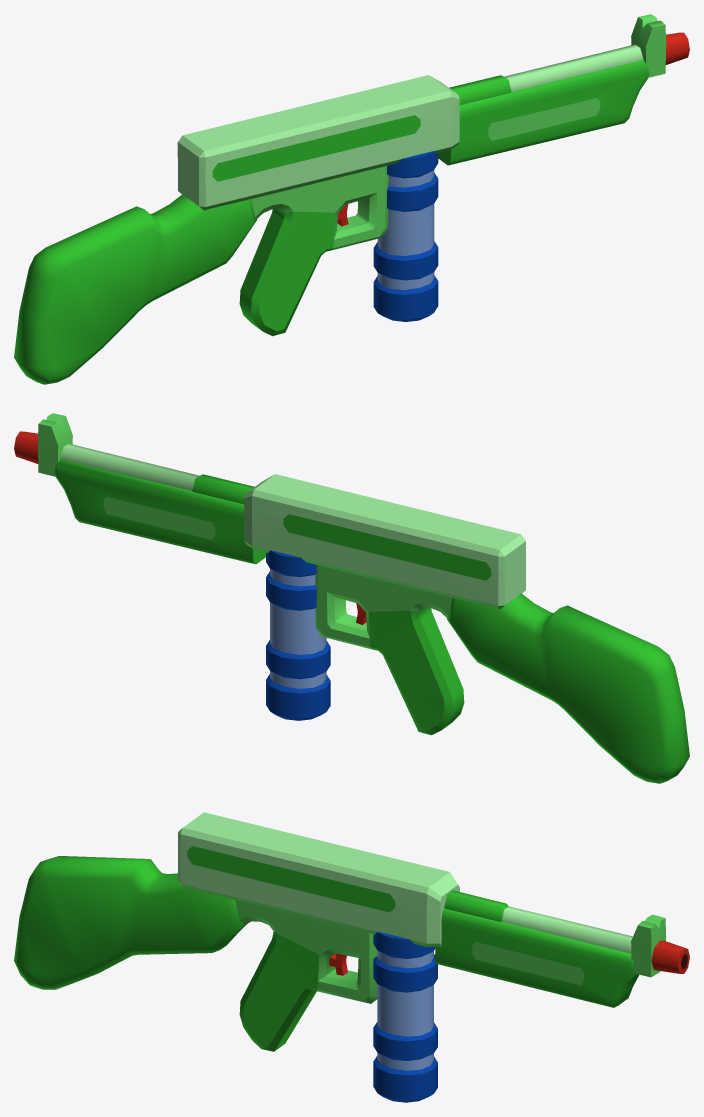
File: Tommy_Gun_Cell_Shaded.fbx
The picture shows the model from 3 angles, top to bottom: view 1: azimuth 30°, elevation 25°; view 2: azimuth 150°, elevation 25°; view 3: azimuth 330°, elevation 25°; orthographic projection.
Visible parts, largest first — view 1: final tommy001; view 2: final tommy001; view 3: final tommy001.
Boxes of the visible parts, x1,y1,x2,y2 form: final tommy001: (14, 14, 689, 384); final tommy001: (14, 413, 689, 783); final tommy001: (14, 812, 689, 1102).
Size of the model in its own units: 1.59 by 0.5263 by 0.1289.
